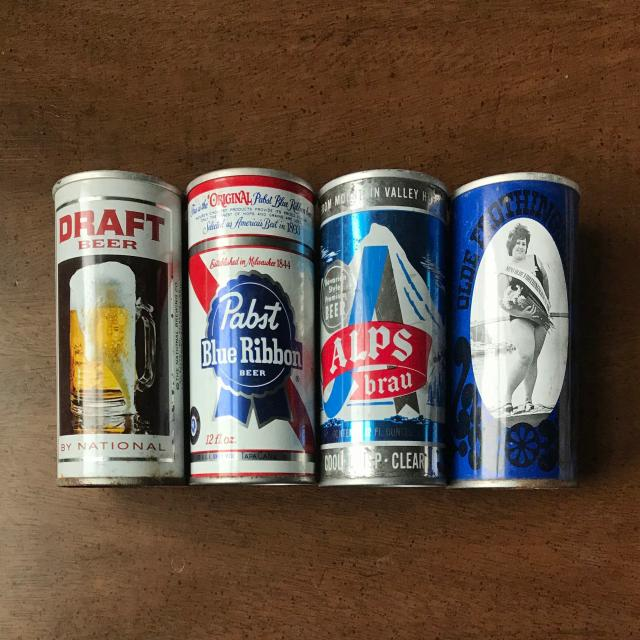non-organic waste: (184, 144, 334, 491), (318, 146, 459, 492), (47, 146, 181, 494), (451, 148, 582, 495)
